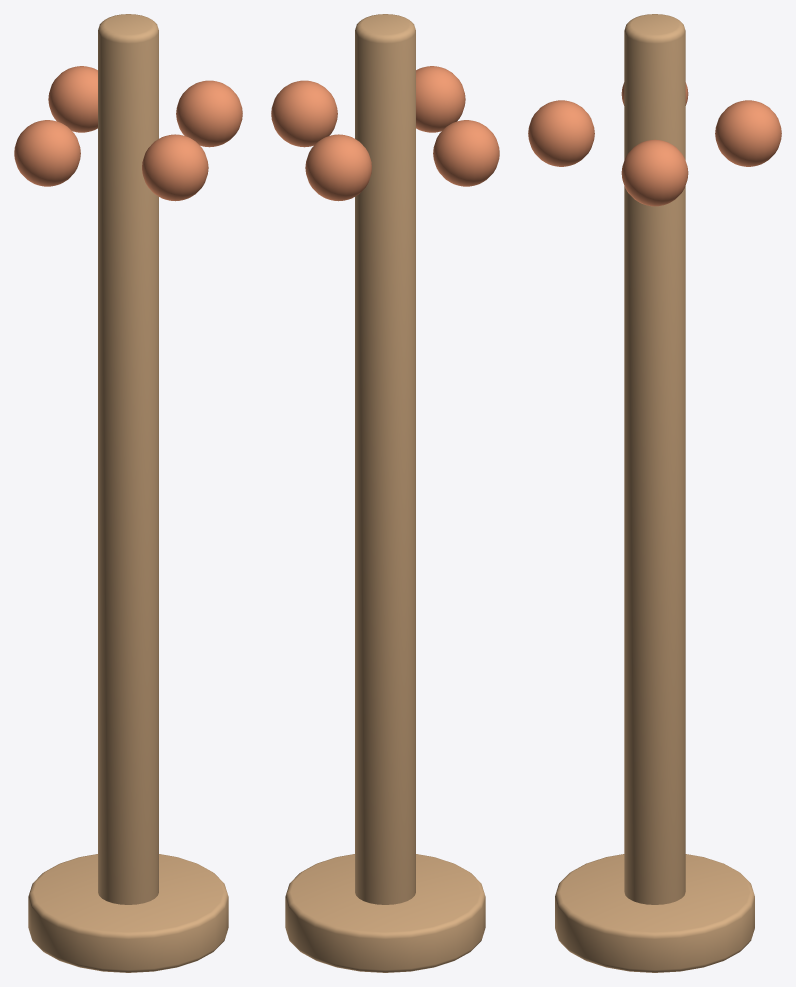
The model's file is coat-rack.glb.
3 views of the same model, side by side, from view 1: azimuth 30°, elevation 25°; view 2: azimuth 150°, elevation 25°; view 3: azimuth 270°, elevation 25° (orthographic).
Parts seen in each view (by area): view 1: post, base.005, hook.002, hook.003, hook, hook.001; view 2: post, base.005, hook.002, hook.001, hook, hook.003; view 3: post, base.005, hook.001, hook.003, hook.
Boxes of the visible parts, box(x1,y1,x2,y2) form: post: box(98, 14, 158, 904); base.005: box(28, 854, 228, 972); hook.002: box(14, 120, 80, 186); hook.003: box(142, 134, 208, 201); hook: box(176, 80, 242, 147); hook.001: box(48, 66, 97, 132); post: box(355, 14, 415, 904); base.005: box(285, 854, 485, 972); hook.002: box(433, 120, 499, 186); hook.001: box(305, 134, 371, 201); hook: box(271, 80, 337, 147); hook.003: box(416, 66, 465, 132); post: box(624, 14, 685, 904); base.005: box(555, 854, 754, 972); hook.001: box(715, 100, 781, 166); hook.003: box(528, 100, 594, 166); hook: box(621, 139, 688, 206).
Size of the model in its own units: 0.456 by 1.8 by 0.456.
